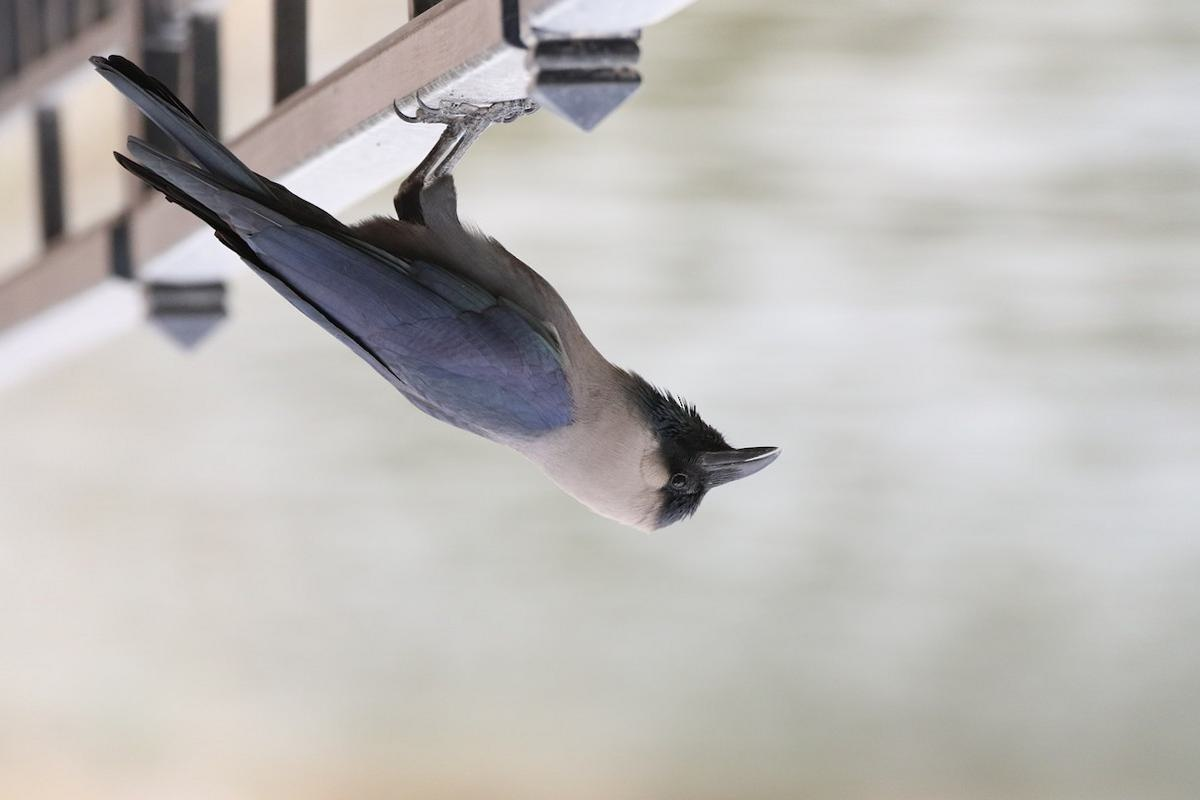crow: (45, 36, 790, 545)
